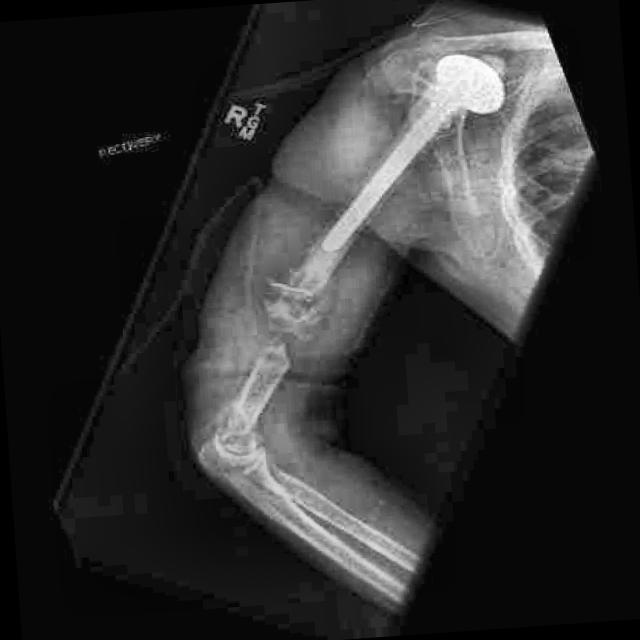humerus: (213, 248, 376, 410)
